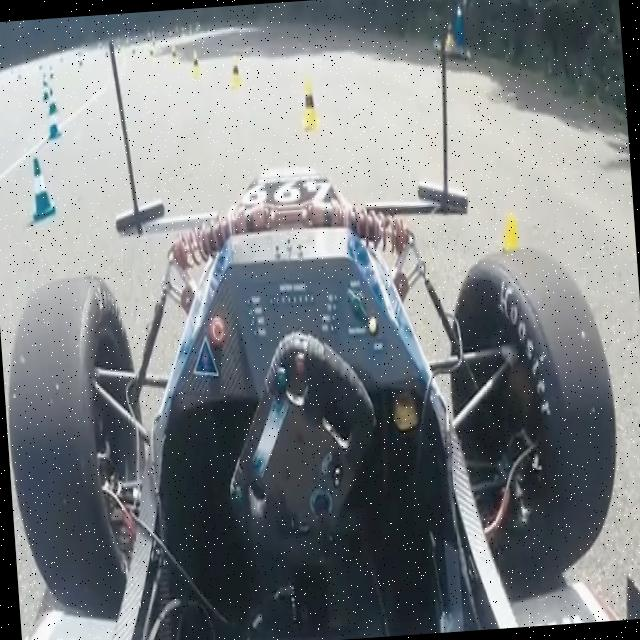blue_cone: (14, 144, 58, 228), (42, 102, 66, 136), (39, 64, 60, 101)
yellow_cone: (298, 75, 331, 148), (224, 54, 257, 100), (188, 42, 202, 72), (164, 36, 177, 60)
